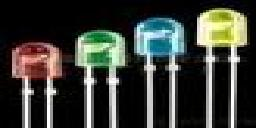LED: (131, 18, 186, 128), (69, 26, 126, 128), (6, 41, 62, 128), (197, 5, 251, 86)
